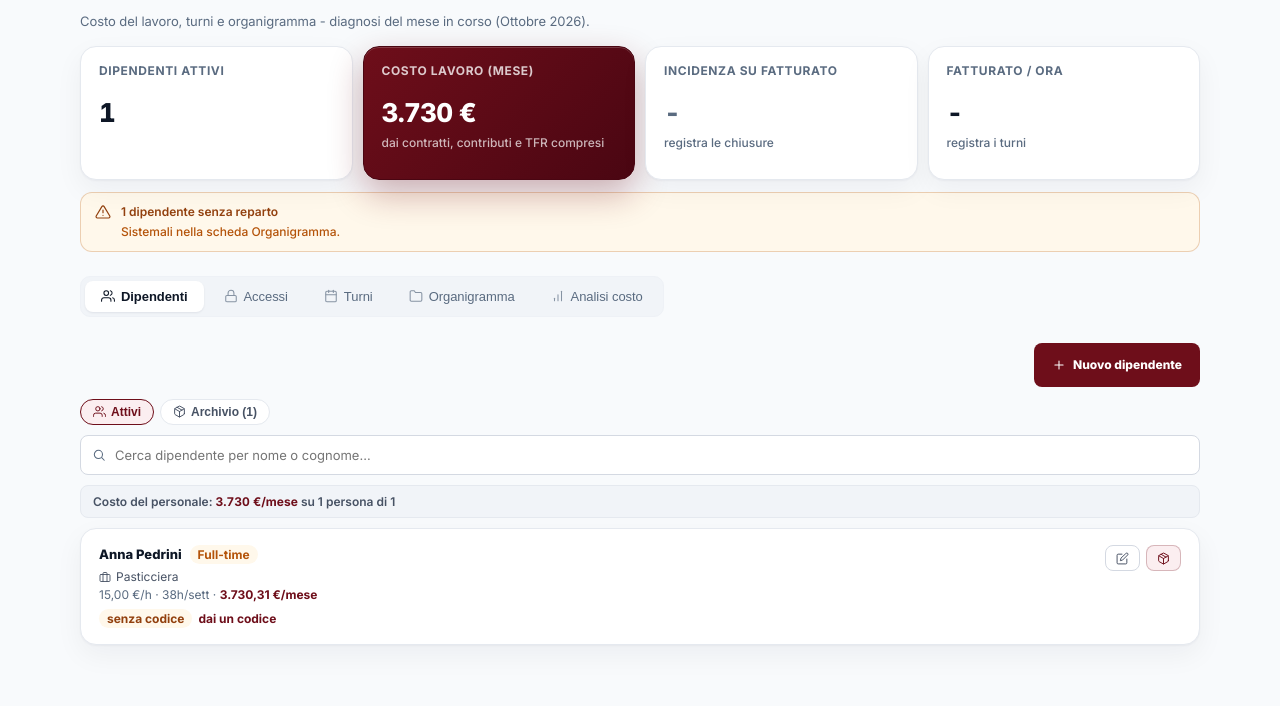
Test: Aprire e chiudere la sezione › «Torna all'elenco» riporta indietro
The image size is (1280, 706).
Click the button "Nuovo dipendente" at (1117,364), box [1034,342,1200,386]
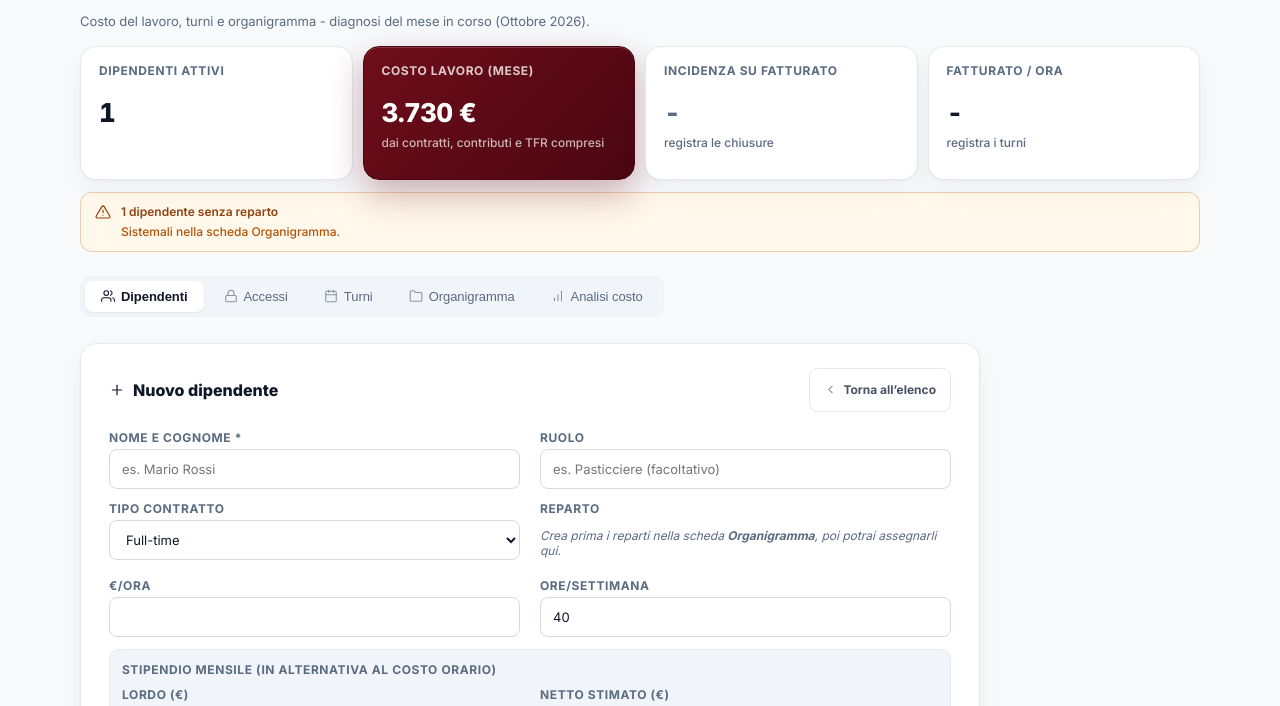
Expected: the field with placeholder "es. Mario Rossi" is shown, [109,448,520,488]
Click the button "Torna all’elenco" at (880,390), box [809,368,951,412]
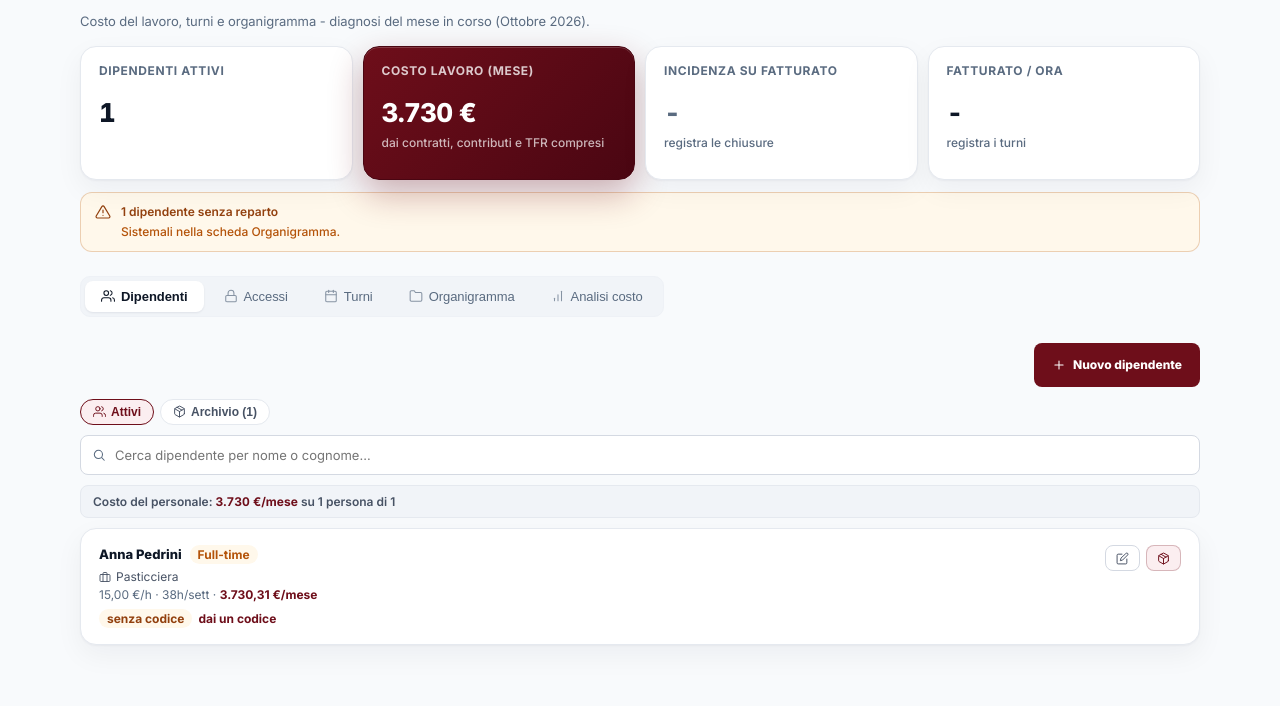
Expected: the text "Anna Pedrini" is shown, [99,546,182,562]
